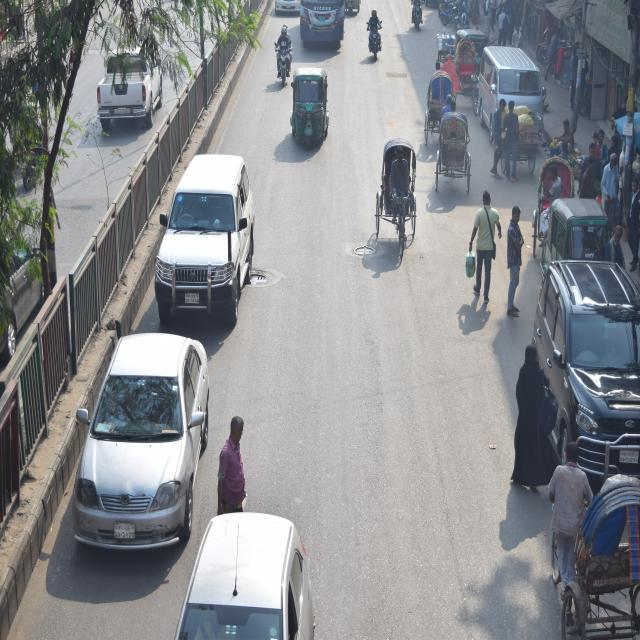bus: (298, 0, 346, 45)
car: (68, 327, 208, 546), (533, 265, 640, 502), (181, 503, 315, 640), (96, 39, 166, 135)
microbus: (474, 39, 548, 150)
motorbike: (150, 148, 250, 319), (273, 37, 293, 92), (366, 18, 384, 75)
